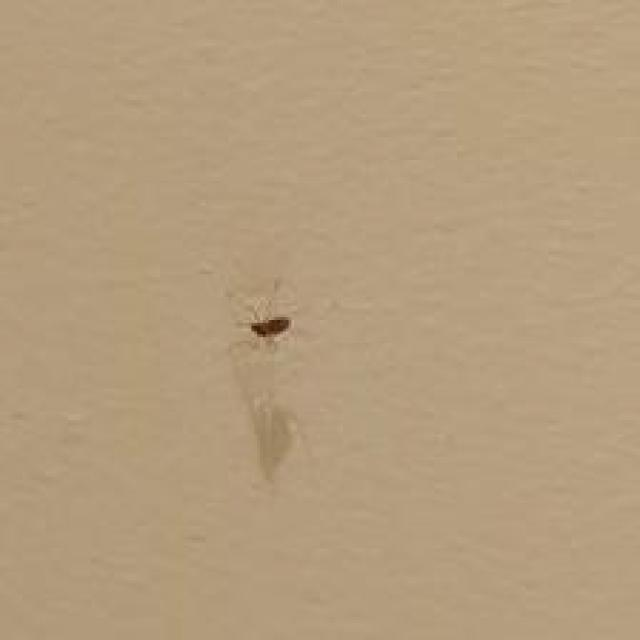Culex: (248, 316, 292, 341)
